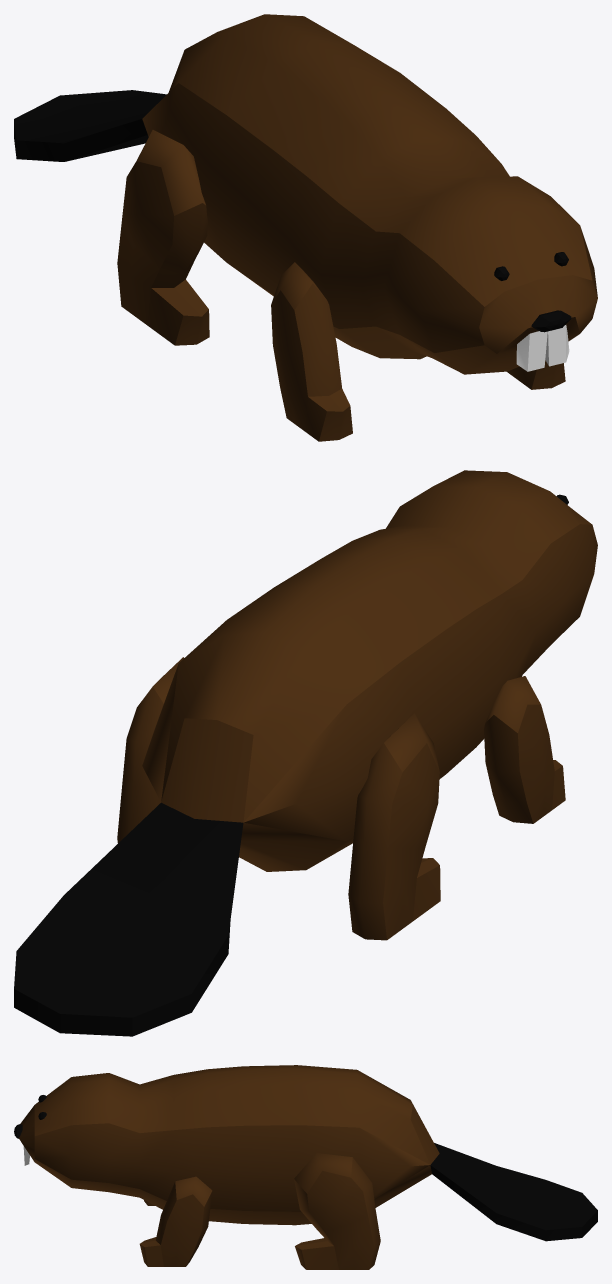
File: beaver.gltf
The picture shows the model from 3 angles, top to bottom: view 1: azimuth 30°, elevation 25°; view 2: azimuth 150°, elevation 25°; view 3: azimuth 270°, elevation 25°; orthographic projection. The views are drawn at different scales.
Visible parts, largest first — view 1: beaver.001; view 2: beaver.001; view 3: beaver.001.
Boxes of the visible parts, x1,y1,x2,y2 form: beaver.001: (14,14,597,441); beaver.001: (14,470,597,1036); beaver.001: (14,1065,597,1269).
Size of the model in its own units: 1.35 by 1.22 by 3.96.
Materials: 1 (1 with a texture image).
